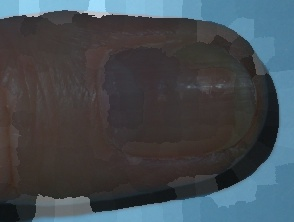Nail_psoriasis: (145, 10, 279, 133)
